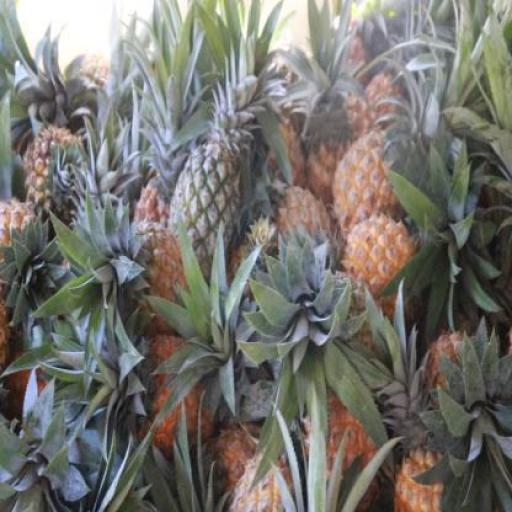Pineapple - v8 v1: (332, 140, 402, 242), (339, 219, 412, 308)
